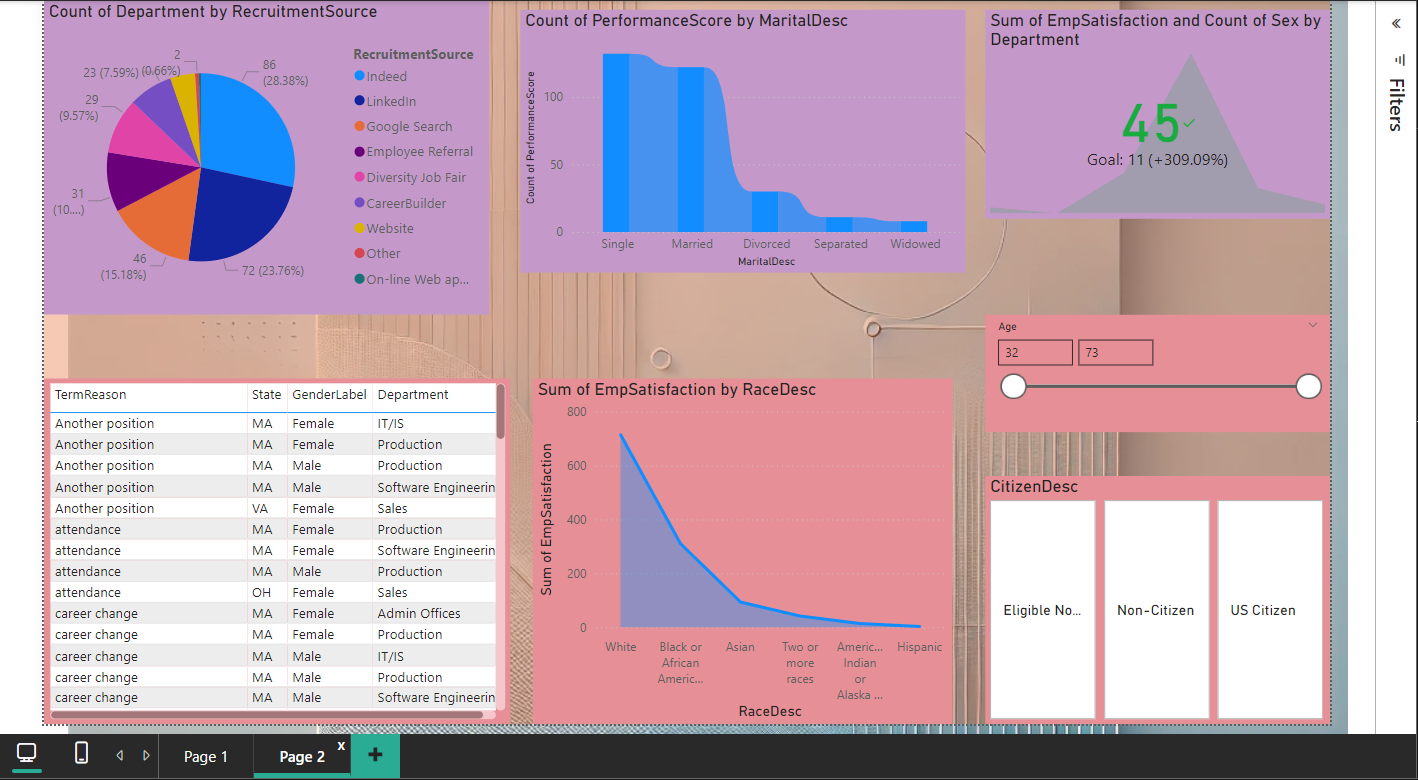

The page's visual inventory and layout, read from the dashboard file:
{"tool":"powerbi","page":{"name":"Page 2","canvas":[1280,720],"ordinal":1},"visuals":[{"type":"tableEx","fields":{"Values":["HRDataset_v14.TermReason","HRDataset_v14.State","HRDataset_v14.GenderLabel","HRDataset_v14.Department"]},"box":[0,375.7,464,344.6],"z":0},{"type":"pieChart","fields":{"Category":["HRDataset_v14.RecruitmentSource"],"Y":["CountNonNull(HRDataset_v14.Department)"]},"box":[0,0,442.8,312.2],"z":1000},{"type":"kpi","fields":{"Indicator":["Sum(HRDataset_v14.EmpSatisfaction)"],"Goal":["CountNonNull(HRDataset_v14.Sex)"],"TrendLine":["HRDataset_v14.Department"]},"box":[936.7,8.7,343.3,207.7],"z":2000},{"type":"slicer","fields":{"Values":["HRDataset_v14.Age"]},"box":[936.7,312.2,343.3,116.9],"z":3000},{"type":"areaChart","fields":{"Category":["HRDataset_v14.RaceDesc"],"Y":["Sum(HRDataset_v14.EmpSatisfaction)"]},"box":[486.4,375.7,418,344.6],"z":4000},{"type":"ribbonChart","fields":{"Category":["HRDataset_v14.MaritalDesc"],"Y":["CountNonNull(HRDataset_v14.PerformanceScore)"]},"box":[473.9,8.7,442.8,261.2],"z":5000},{"type":"advancedSlicerVisual","fields":{"Values":["HRDataset_v14.CitizenDesc"]},"box":[936.7,472.7,343.3,247.5],"z":6000}]}

Visuals, with their boxes on the page's 1280x720 design canvas (x1, y1, x2, y2). These are canvas units, not pixel positions in the 1418x780 screenshot, which may show the page scaled, cropped or inside an application window:
tableEx - HRDataset_v14.TermReason x HRDataset_v14.State: detection(0, 376, 464, 720)
pieChart - HRDataset_v14.RecruitmentSource x CountNonNull(HRDataset_v14.Department): detection(0, 0, 443, 312)
kpi - Sum(HRDataset_v14.EmpSatisfaction) x CountNonNull(HRDataset_v14.Sex): detection(937, 9, 1280, 216)
slicer - HRDataset_v14.Age: detection(937, 312, 1280, 429)
areaChart - HRDataset_v14.RaceDesc x Sum(HRDataset_v14.EmpSatisfaction): detection(486, 376, 904, 720)
ribbonChart - HRDataset_v14.MaritalDesc x CountNonNull(HRDataset_v14.PerformanceScore): detection(474, 9, 917, 270)
advancedSlicerVisual - HRDataset_v14.CitizenDesc: detection(937, 473, 1280, 720)
